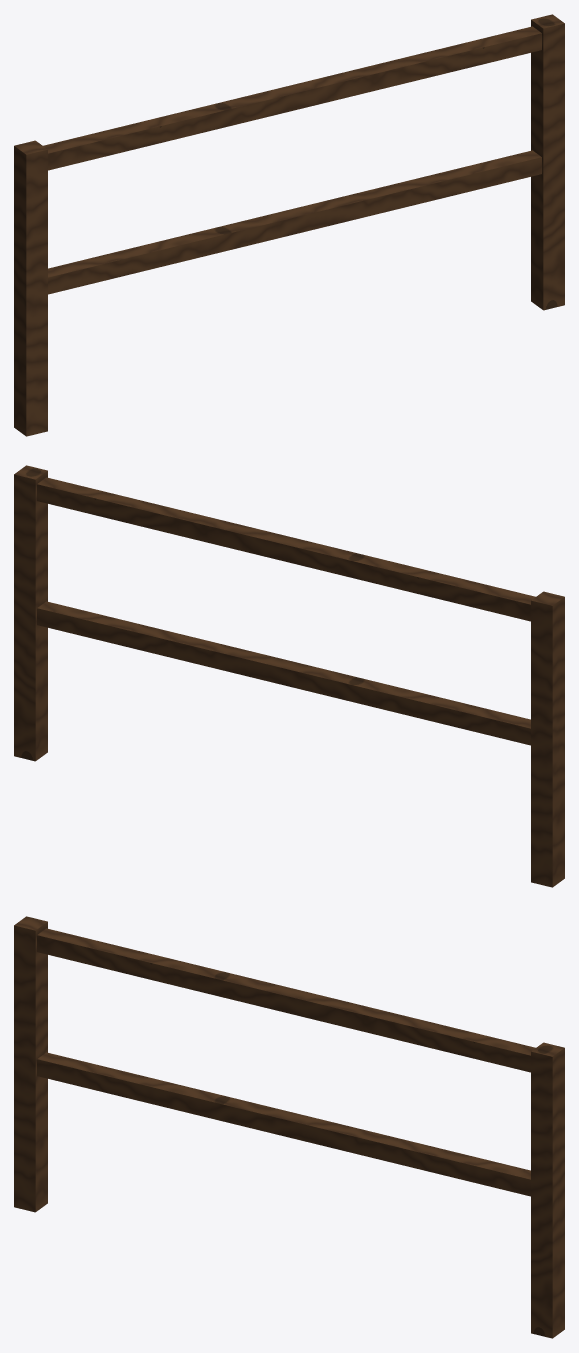
Rendered from railing_straight_2m.glb.
3 views of the same model, one above another, from view 1: azimuth 30°, elevation 25°; view 2: azimuth 150°, elevation 25°; view 3: azimuth 330°, elevation 25° (orthographic).
Visible parts, largest first — view 1: railing_straight_2m; view 2: railing_straight_2m; view 3: railing_straight_2m.
Part boxes in pixels (<box>): railing_straight_2m: <box>14,14,564,436</box>; railing_straight_2m: <box>14,465,564,887</box>; railing_straight_2m: <box>14,916,564,1338</box>.
Bounding box in the file's own units: 2 × 1 × 0.08.
1 material, 1 textured.
